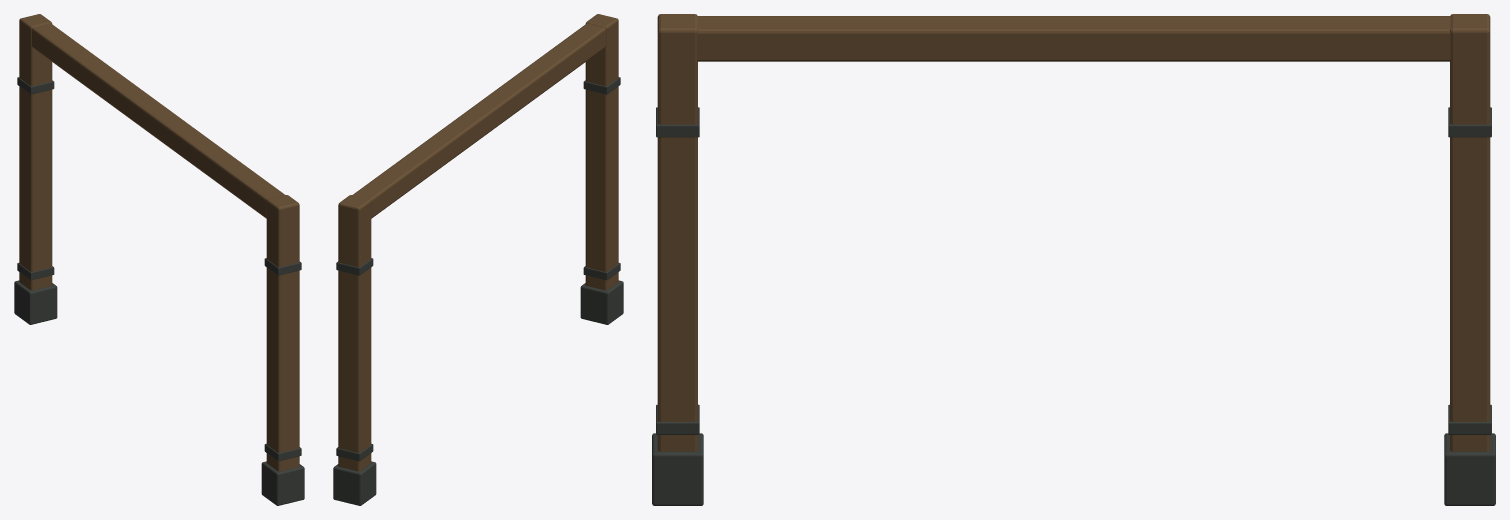
The model's file is BridgeGateFrame.fbx.
3 renders of one model, left to right at view 1: azimuth 30°, elevation 25°; view 2: azimuth 150°, elevation 25°; view 3: azimuth 270°, elevation 25°, orthographic. The views are drawn at different scales.
Visible parts, largest first — view 1: BridgeGateFrame; view 2: BridgeGateFrame; view 3: BridgeGateFrame.
Part boxes in pixels (left/top/right/bottom): BridgeGateFrame: left=14, top=14, right=304, bottom=505; BridgeGateFrame: left=333, top=14, right=623, bottom=505; BridgeGateFrame: left=652, top=14, right=1495, bottom=505.
Bounding box in the file's own units: 32 × 522 × 324.
